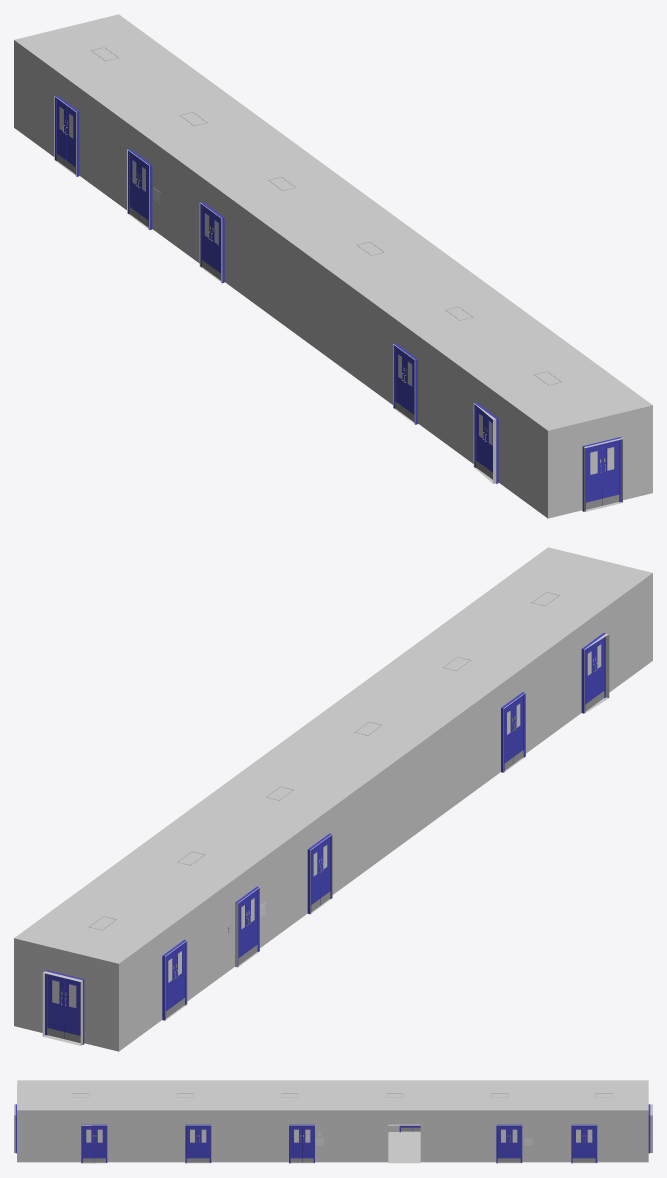
The model's file is CORRIDOR.fbx.
3 renders of one model, top to bottom at view 1: azimuth 30°, elevation 25°; view 2: azimuth 150°, elevation 25°; view 3: azimuth 270°, elevation 25°, orthographic. The views are drawn at different scales.
Parts seen in each view (by area): view 1: CORRIDOR, door_2, door_1; view 2: CORRIDOR, door_2, door_1; view 3: CORRIDOR, door_1 (×5), door_2 (×5), doorframe (×5).
Boxes of the visible parts, left/top/right/bottom form: CORRIDOR: left=14, top=14, right=652, bottom=518; door_2: left=602, top=441, right=619, bottom=505; door_1: left=586, top=445, right=602, bottom=502; CORRIDOR: left=14, top=547, right=652, bottom=1051; door_2: left=47, top=974, right=64, bottom=1038; door_1: left=64, top=978, right=80, bottom=1035; CORRIDOR: left=14, top=1080, right=652, bottom=1163; door_1 (×5): left=83, top=1127, right=584, bottom=1162; door_2 (×5): left=94, top=1127, right=595, bottom=1162; doorframe (×5): left=81, top=1124, right=597, bottom=1163.
Bounding box in the file's own units: 367 × 269 × 2975.
